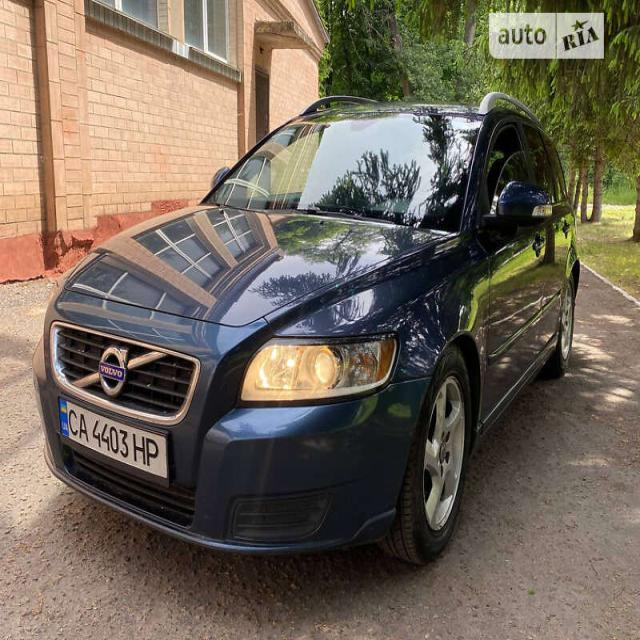plate: (53, 392, 171, 488)
